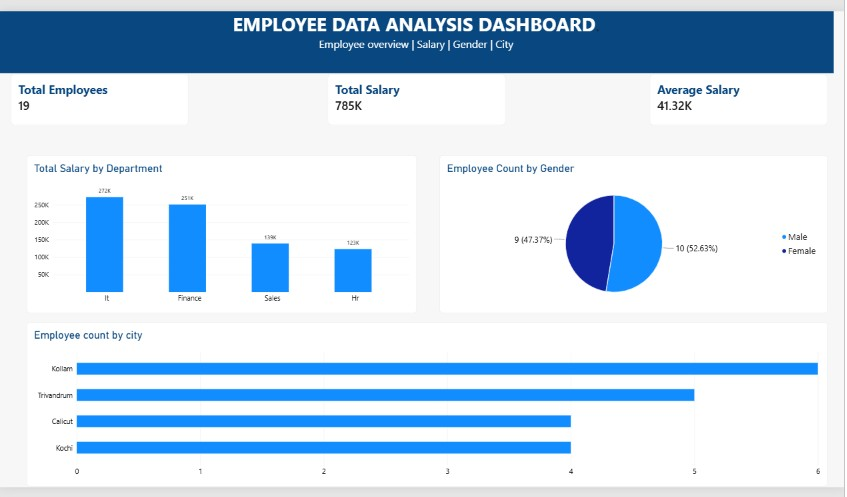

This screenshot's page, from the dashboard's own definition file:
{"tool":"powerbi","page":{"name":"Page 1","canvas":[1920,1080],"ordinal":0},"visuals":[{"type":"textbox","box":[0,0,1896.5,140.8],"z":0},{"type":"cardVisual","fields":{"Data":["Sum(Cleaned Data1.Salary)"]},"box":[747.3,143.1,404,115],"z":3},{"type":"cardVisual","title":"Average Salary","fields":{"Data":["Avg(Cleaned Data1.Salary)"]},"box":[1478.6,143.1,404,115.8],"z":4},{"type":"clusteredColumnChart","title":"Total Salary by Department","fields":{"Category":["Cleaned Data1.Department"],"Y":["Sum(Cleaned Data1.Salary)"]},"box":[63.6,327.1,885.8,358.9],"z":5},{"type":"clusteredBarChart","title":"Employee count by city","fields":{"Category":["Cleaned Data1.City"],"Y":["CountNonNull(Cleaned Data1.Name)"]},"box":[63.6,706.4,1819.3,372.5],"z":6},{"type":"pieChart","title":"Employee Count  by Gender","fields":{"Category":["Cleaned Data1.Gender"],"Y":["CountNonNull(Cleaned Data1.Name)"]},"box":[1001.6,327.1,881.3,358.9],"z":7},{"type":"cardVisual","fields":{"Data":["CountNonNull(Cleaned Data1.Name)"]},"box":[27.3,143.1,404.3,115.8],"z":8}]}

Visuals, with their boxes on the page's 1920x1080 design canvas (x1, y1, x2, y2). These are canvas units, not pixel positions in the 847x497 screenshot, which may show the page scaled, cropped or inside an application window:
textbox: bbox(0, 0, 1896, 141)
cardVisual - Sum(Cleaned Data1.Salary): bbox(747, 143, 1151, 258)
"Average Salary" cardVisual: bbox(1479, 143, 1883, 259)
"Total Salary by Department" clusteredColumnChart: bbox(64, 327, 949, 686)
"Employee count by city" clusteredBarChart: bbox(64, 706, 1883, 1079)
"Employee Count  by Gender" pieChart: bbox(1002, 327, 1883, 686)
cardVisual - CountNonNull(Cleaned Data1.Name): bbox(27, 143, 432, 259)
